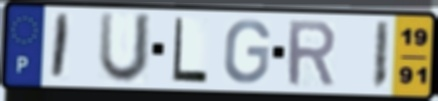G: (221, 18, 273, 86)
I: (48, 12, 73, 82), (370, 20, 392, 92)
L: (170, 15, 211, 85)
R: (285, 19, 338, 89)
U: (95, 10, 155, 86)
